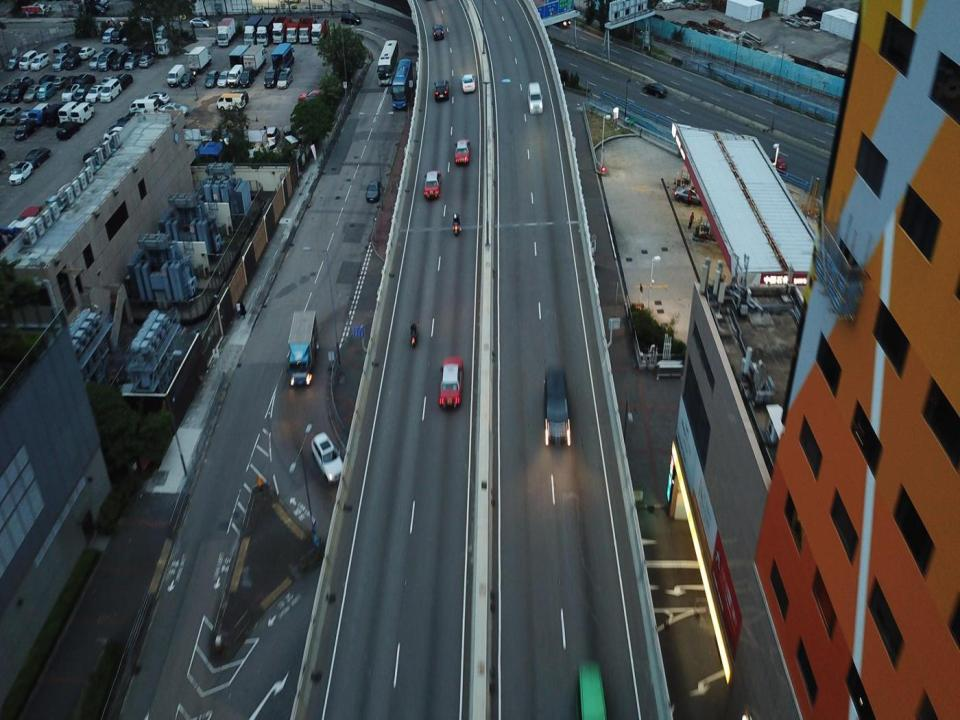bus: (375, 38, 401, 85), (391, 58, 413, 112)
car: (541, 367, 572, 449), (309, 430, 347, 484), (438, 354, 463, 414), (674, 184, 709, 210), (640, 80, 670, 100), (8, 162, 34, 185), (423, 170, 442, 201), (26, 146, 54, 166), (762, 154, 787, 176), (145, 87, 173, 104), (298, 89, 327, 105), (13, 122, 34, 144), (454, 138, 471, 165), (161, 102, 188, 119), (364, 178, 382, 203), (56, 120, 78, 140), (432, 78, 450, 102), (180, 68, 198, 92), (204, 68, 220, 88), (12, 72, 32, 88), (340, 11, 361, 26), (278, 68, 293, 88), (431, 22, 446, 41), (125, 51, 139, 71), (189, 16, 211, 28), (90, 83, 101, 106), (112, 52, 126, 70), (116, 73, 130, 91), (139, 53, 154, 69), (34, 55, 50, 69), (217, 70, 229, 88), (40, 82, 52, 100), (78, 73, 96, 85), (4, 105, 17, 120), (64, 56, 80, 68), (10, 85, 22, 100), (51, 58, 66, 70), (77, 86, 88, 102), (66, 85, 77, 101), (1, 85, 10, 104), (18, 107, 30, 120), (25, 86, 36, 100), (53, 75, 64, 88), (39, 74, 53, 84), (64, 75, 75, 86), (80, 46, 91, 57), (68, 46, 79, 56)
truck: (284, 310, 319, 387), (573, 656, 614, 719), (214, 16, 234, 46), (274, 42, 297, 68), (187, 46, 211, 68), (310, 18, 327, 48), (242, 14, 258, 43), (246, 46, 264, 71), (228, 43, 248, 65), (256, 16, 272, 43), (298, 16, 312, 42), (272, 16, 285, 40), (286, 19, 298, 39)
van: (526, 81, 545, 115), (165, 61, 183, 89), (70, 103, 96, 122), (129, 97, 156, 113), (215, 95, 243, 110), (98, 46, 114, 70), (100, 20, 115, 45), (103, 80, 121, 100), (460, 73, 477, 93), (263, 66, 277, 90), (228, 66, 242, 88), (110, 20, 123, 43), (89, 50, 103, 71), (31, 103, 44, 124), (241, 68, 254, 88), (58, 102, 72, 120), (45, 102, 57, 122), (230, 91, 248, 104), (20, 52, 32, 68), (55, 42, 68, 54)
